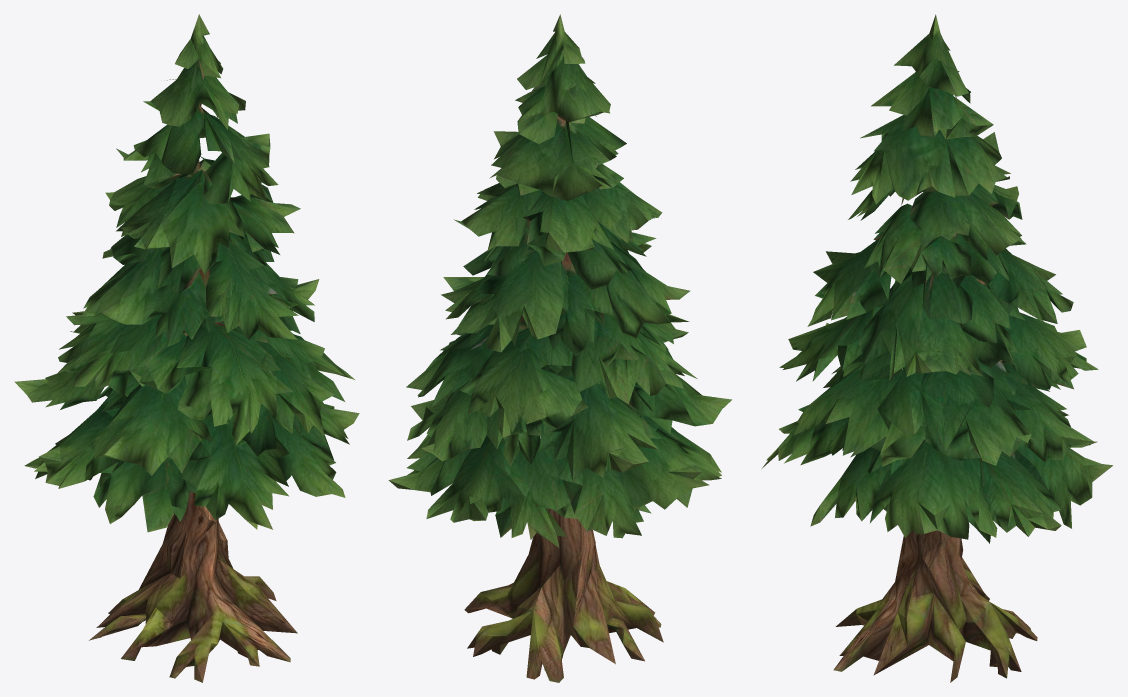
Rendered from VEG-001.glb.
3 renders of one model, left to right at view 1: azimuth 30°, elevation 25°; view 2: azimuth 150°, elevation 25°; view 3: azimuth 270°, elevation 25°, orthographic. The views are drawn at different scales.
Parts seen in each view (by area): view 1: VEG-001_LOD0; view 2: VEG-001_LOD0; view 3: VEG-001_LOD0.
Part boxes in pixels (x1=…): VEG-001_LOD0: x1=14, y1=14, x2=359, y2=682; VEG-001_LOD0: x1=388, y1=14, x2=731, y2=682; VEG-001_LOD0: x1=762, y1=14, x2=1112, y2=682.
Size of what is drawn, in the model's own units: 2.52 by 4.8 by 2.41.
1 material, 1 textured.
